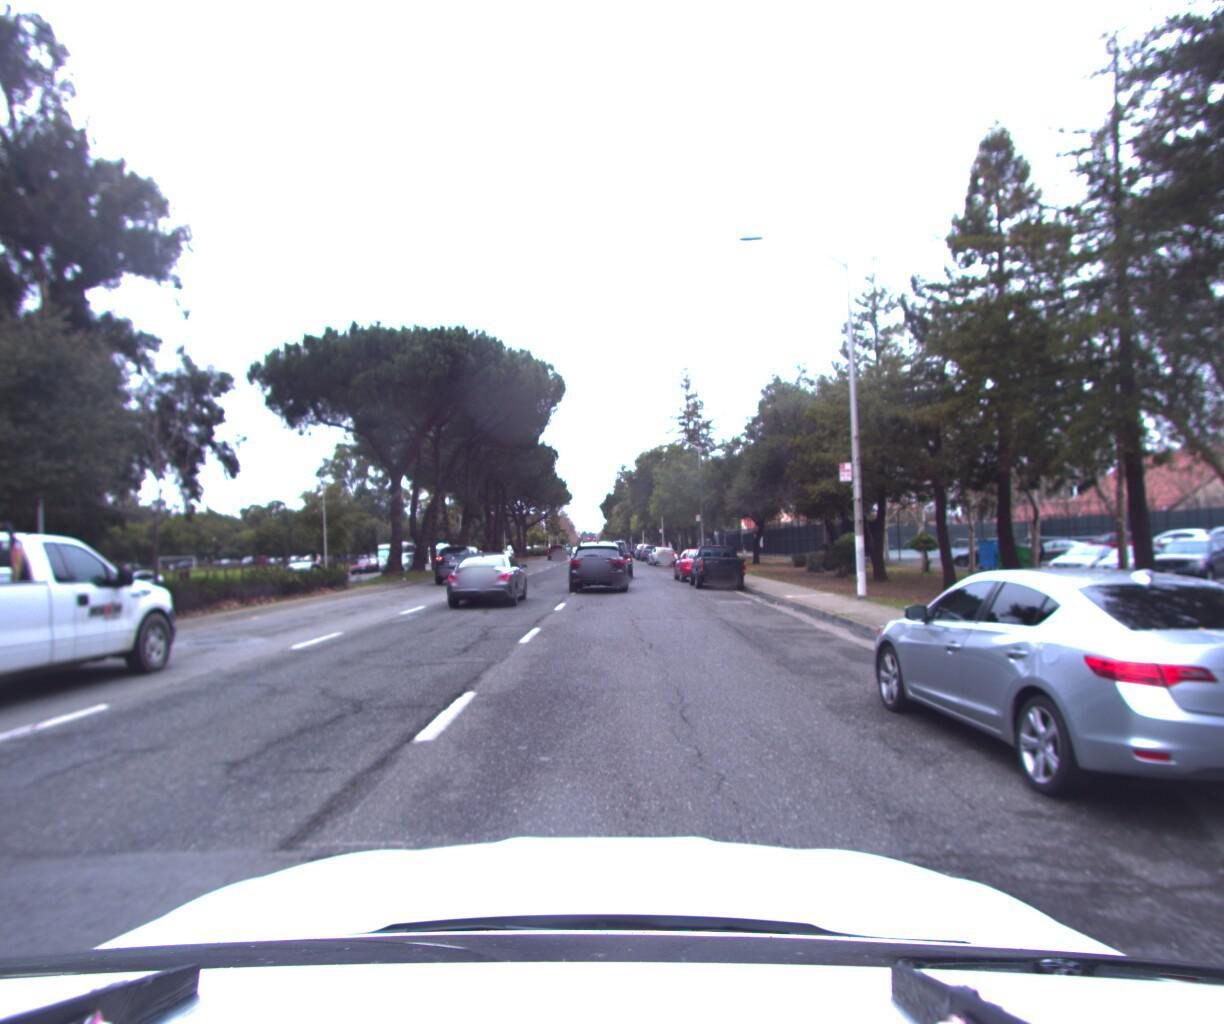car: (855, 546, 1224, 845), (0, 491, 202, 792), (446, 548, 534, 610), (563, 535, 631, 595), (686, 537, 751, 585), (433, 542, 490, 587), (671, 539, 728, 579), (586, 533, 634, 576), (645, 539, 679, 561), (349, 553, 381, 573), (639, 538, 661, 557)
